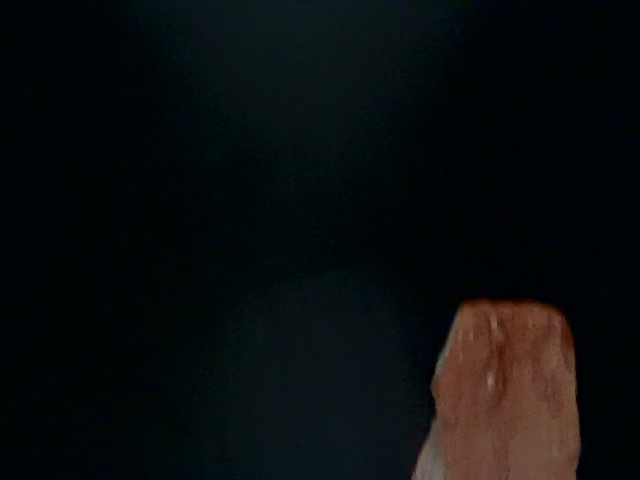KHSLJ: (79, 316, 360, 480)
